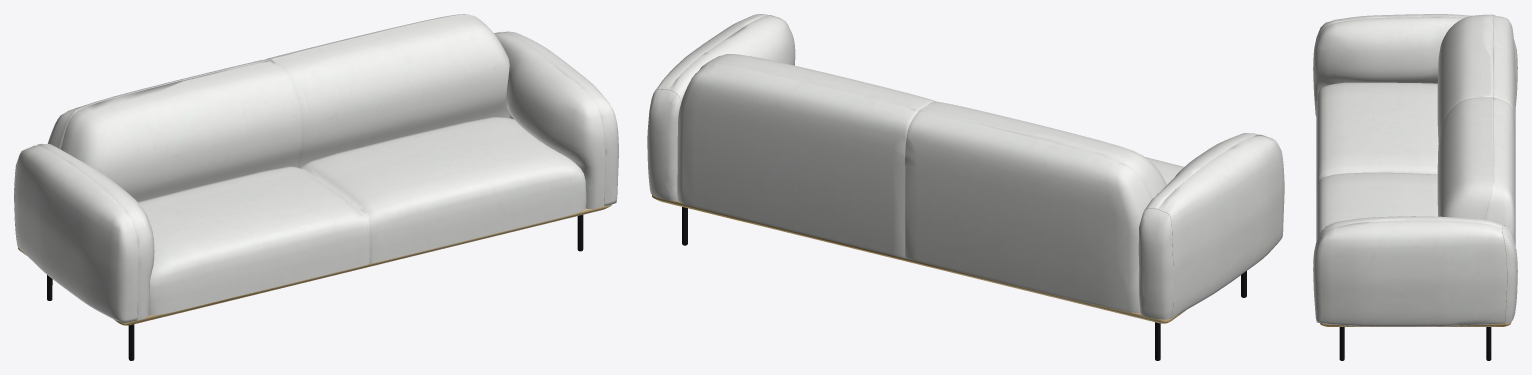
The picture shows the model from 3 angles, left to right: view 1: azimuth 30°, elevation 25°; view 2: azimuth 150°, elevation 25°; view 3: azimuth 270°, elevation 25°; orthographic projection. The views are drawn at different scales.
Visible parts, largest first — view 1: B075NP5K3L; view 2: B075NP5K3L; view 3: B075NP5K3L.
Boxes of the visible parts, box(x1,y1,x2,y2) form: B075NP5K3L: box(14, 14, 618, 360); B075NP5K3L: box(647, 14, 1284, 360); B075NP5K3L: box(1313, 14, 1517, 360).
Bounding box in the file's own units: 2.28 × 0.7796 × 0.8698.
1 material, 1 textured.
